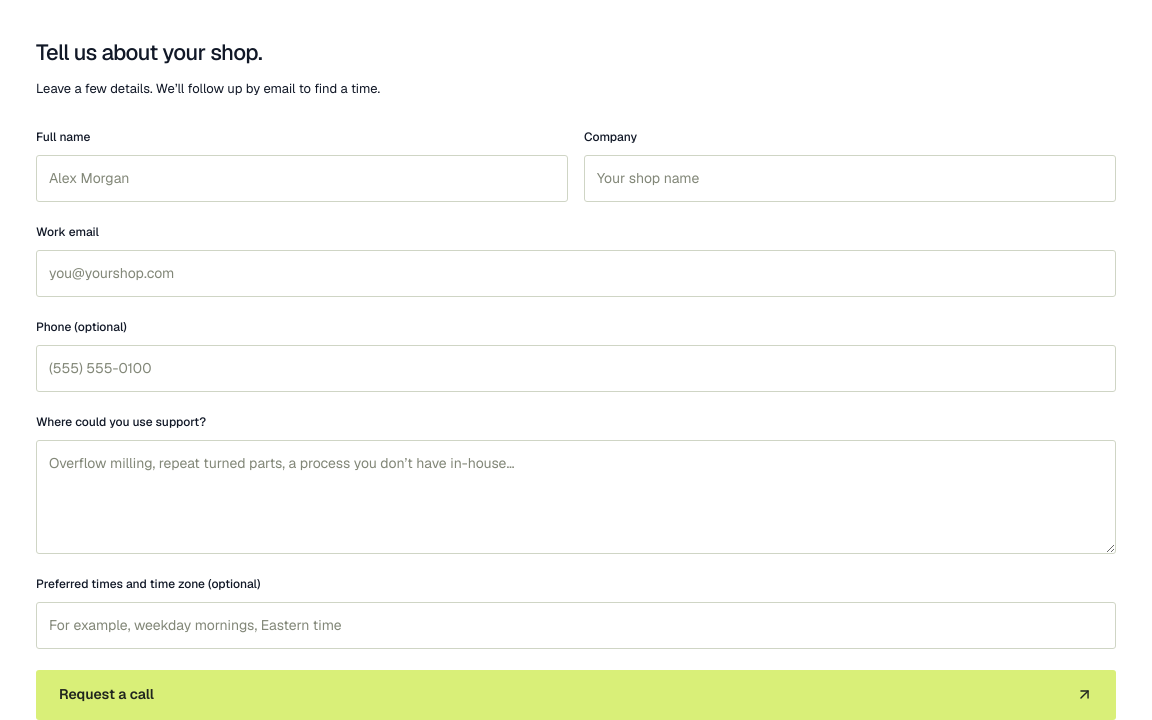
Call request form feedback › shows a scheduling-pending receipt only after the server reports a saved request
Type "Alex Shop" into the field labelled "Full name" at (302, 179), box [36,155,568,202]
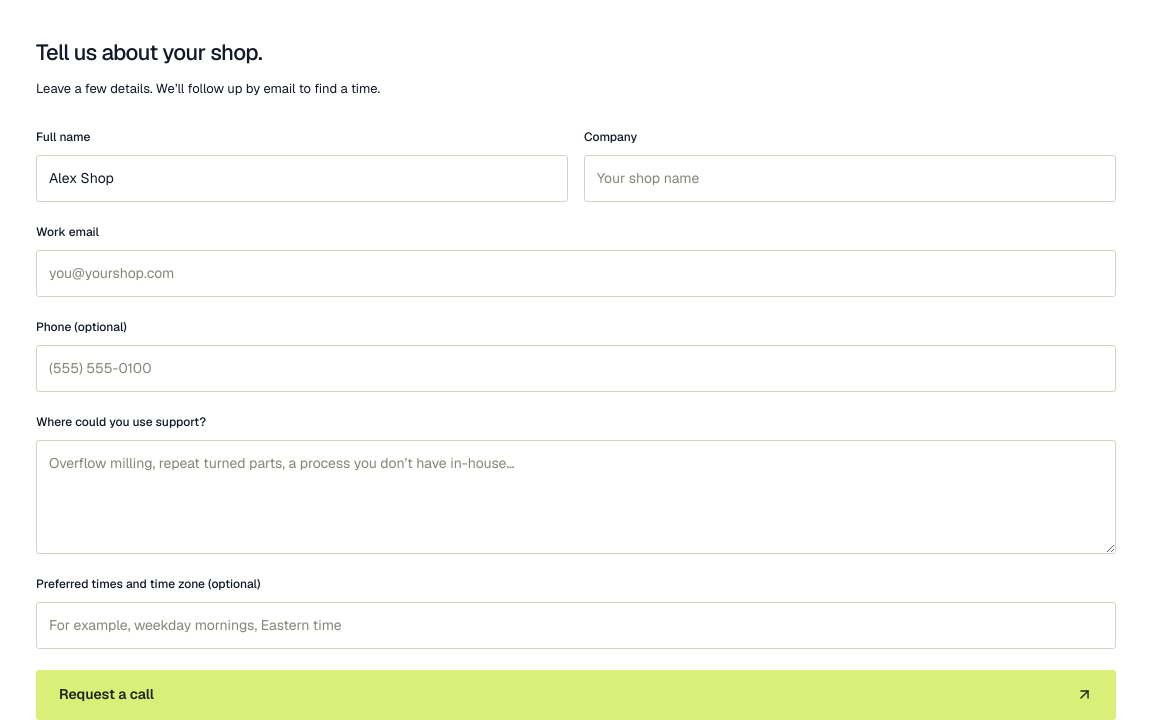
Type "Example Machining" into the field labelled "Company" at (850, 179), box [584,155,1116,202]
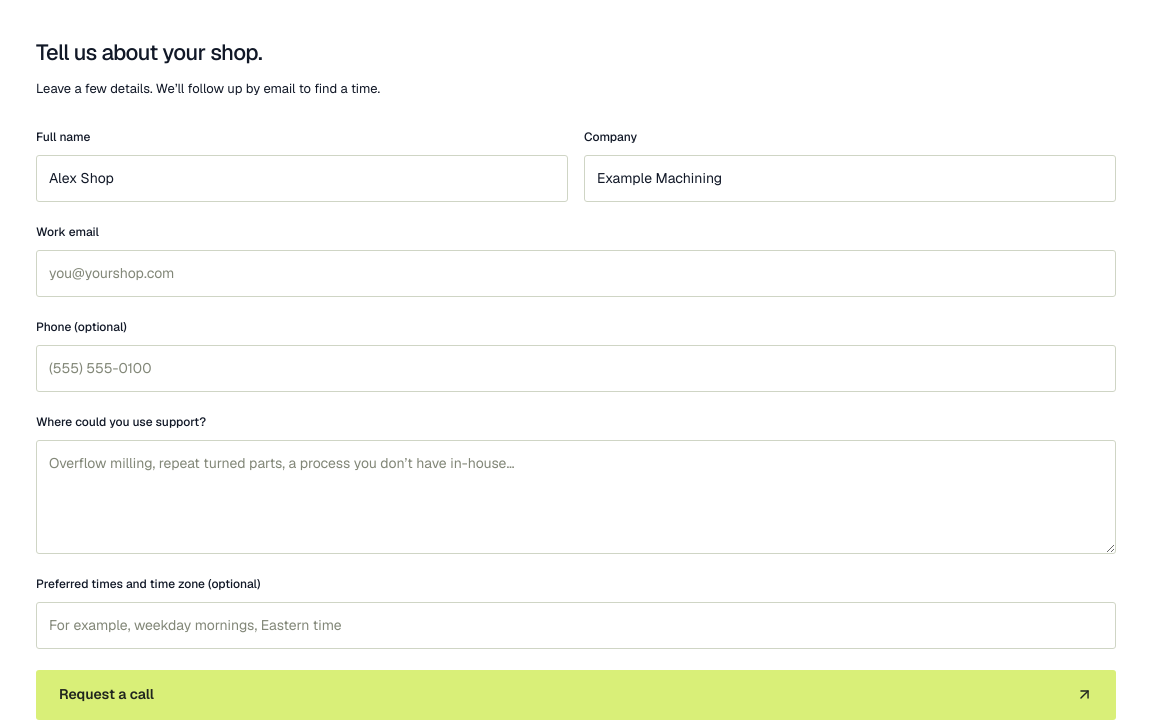
Type "alex@example.com" into the field labelled "Work email" at (576, 274), box [36,250,1116,297]
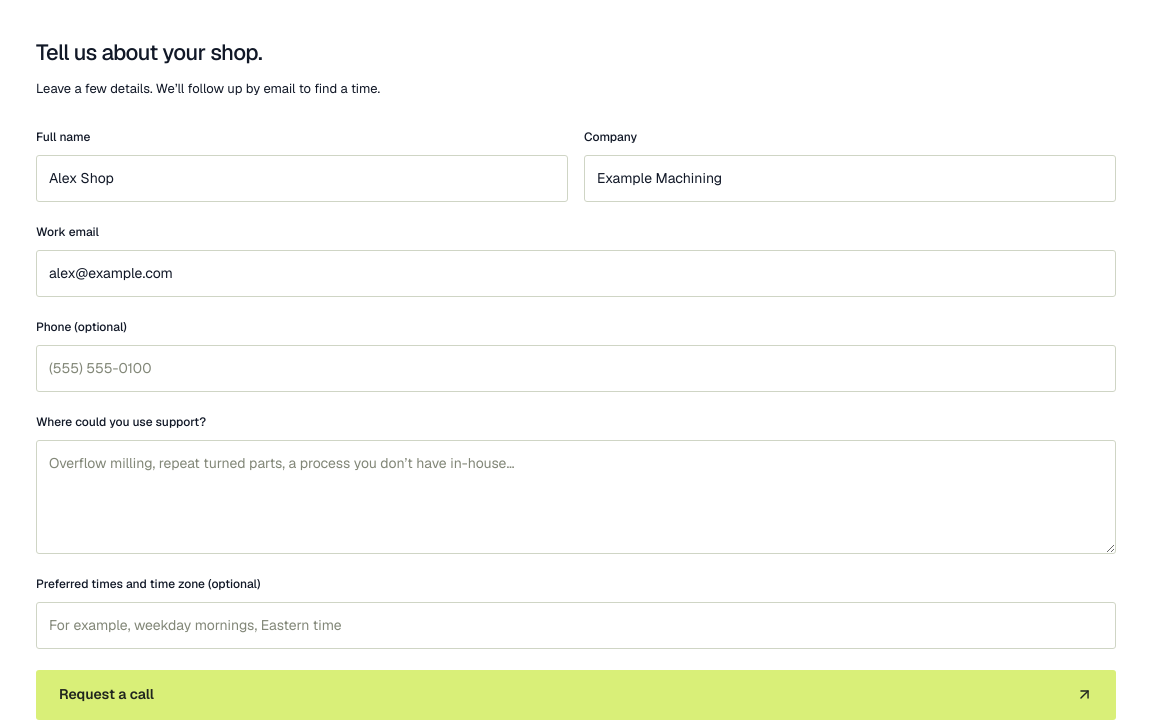
Replace the text in the text box labelled "Where could you use support?" with "Overflow milling" at (576, 497), box [36,440,1116,554]
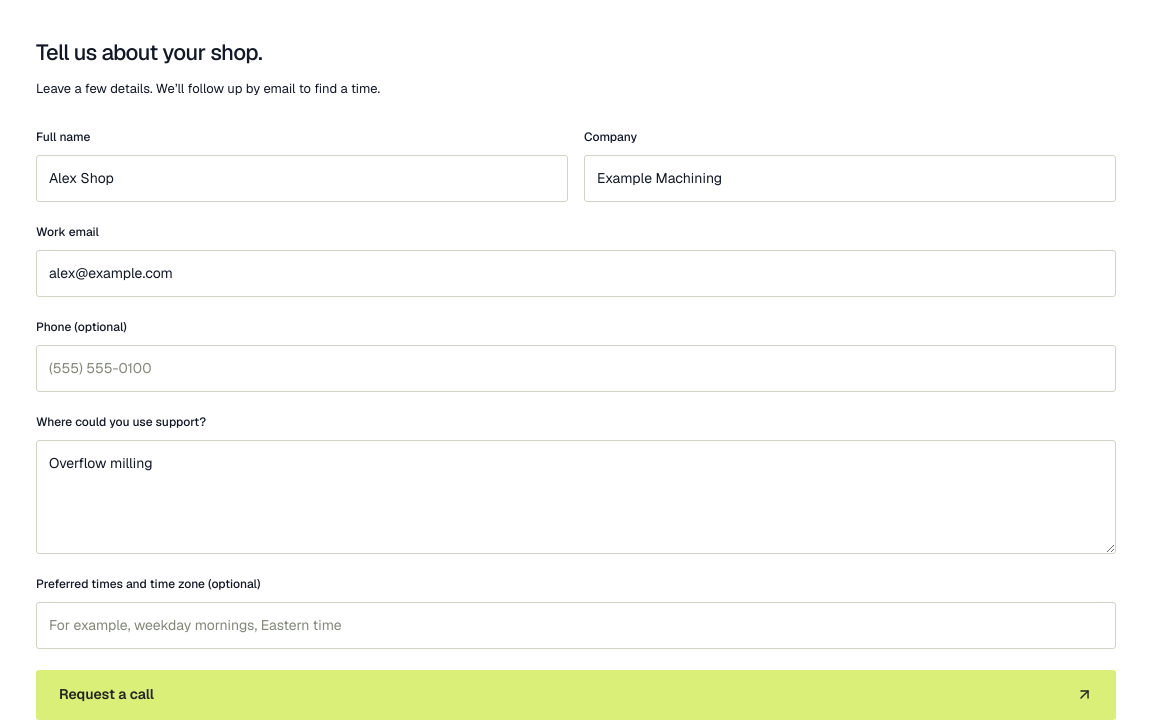
Click the button "Request a call" at (106, 694), box [36,670,1116,719]
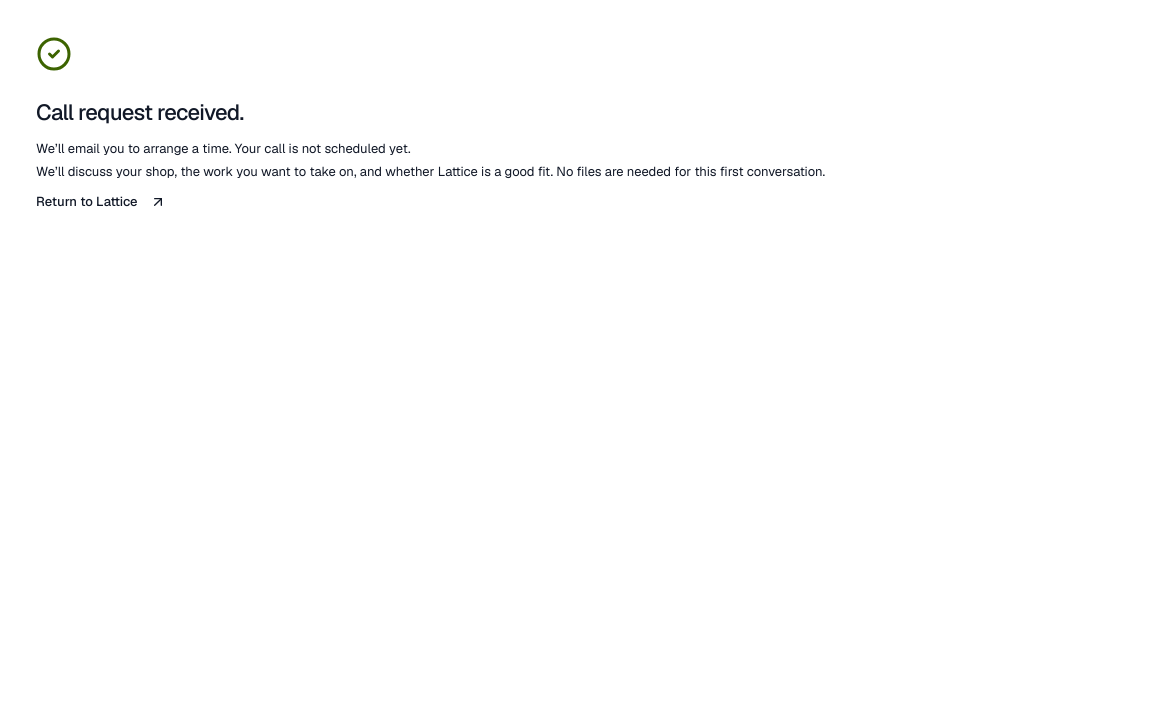
Expected: the message shows "not scheduled yet", [36,140,411,157]
